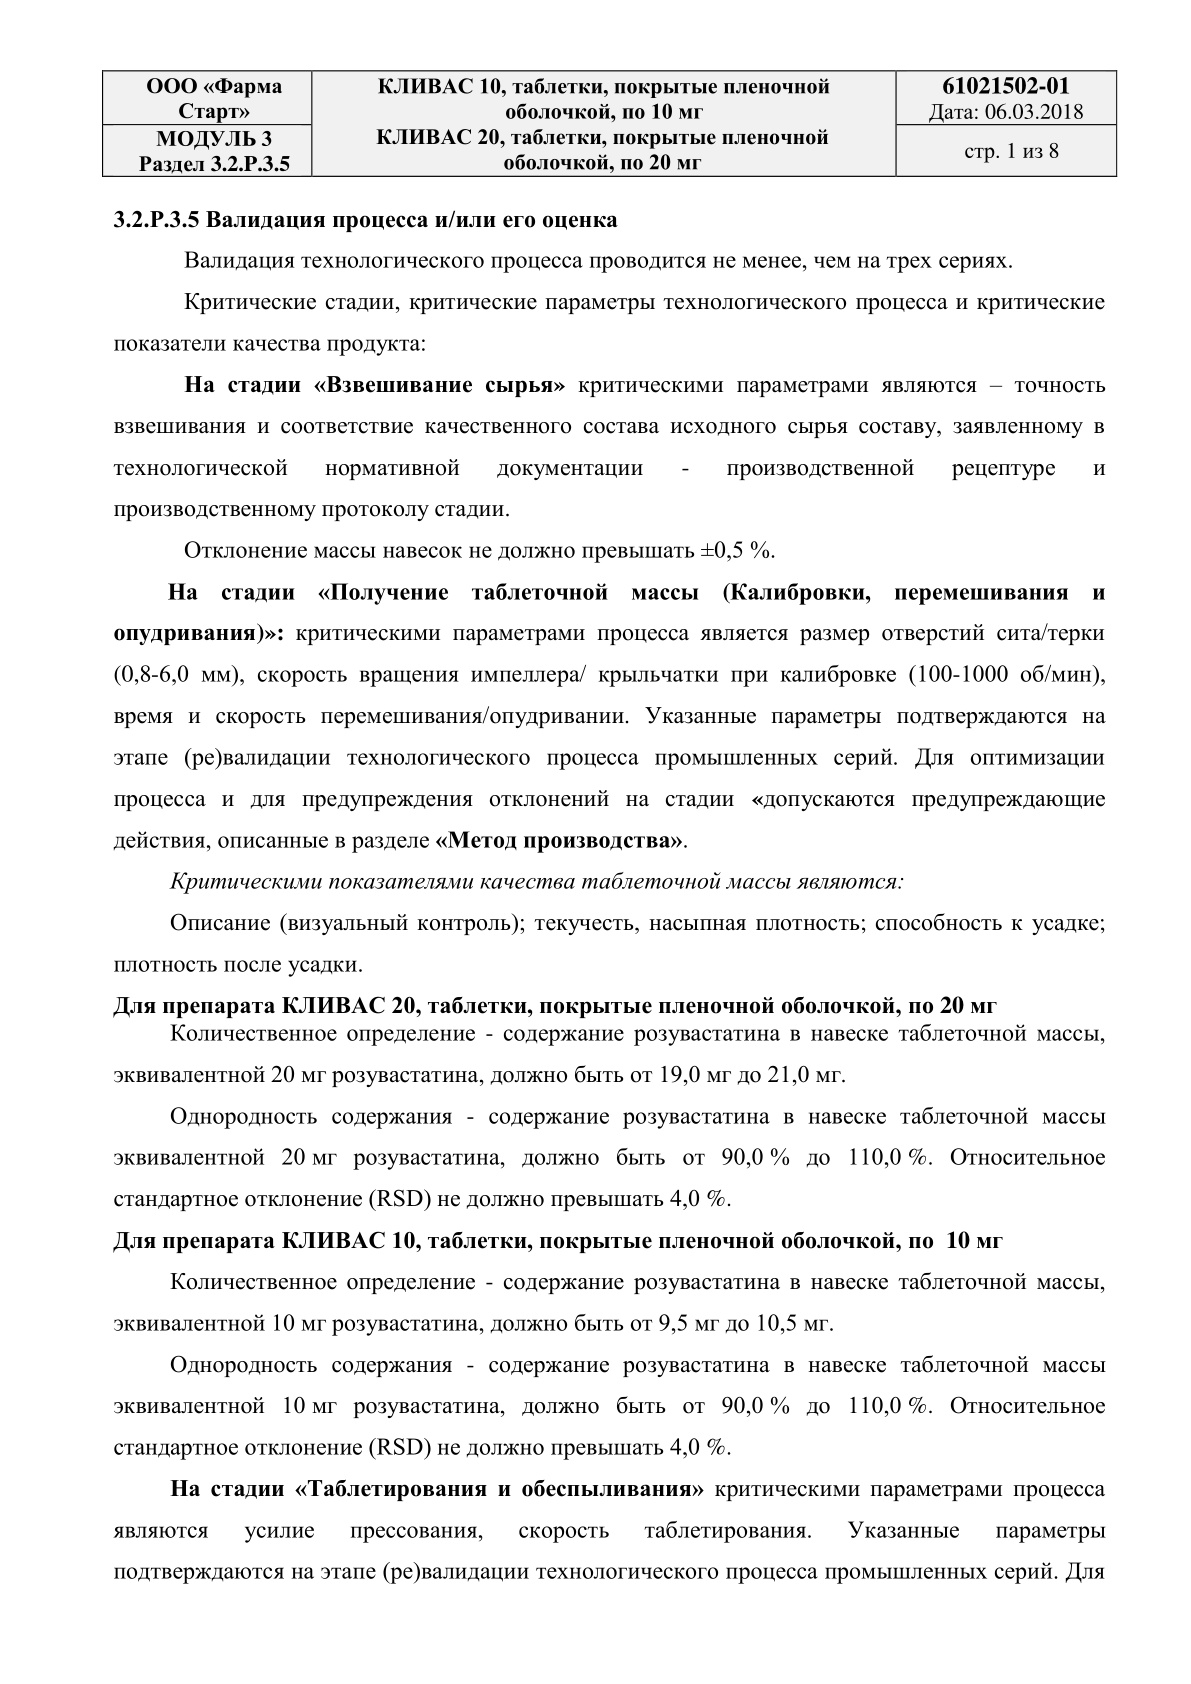merged_cells: (101, 70, 1118, 178)
